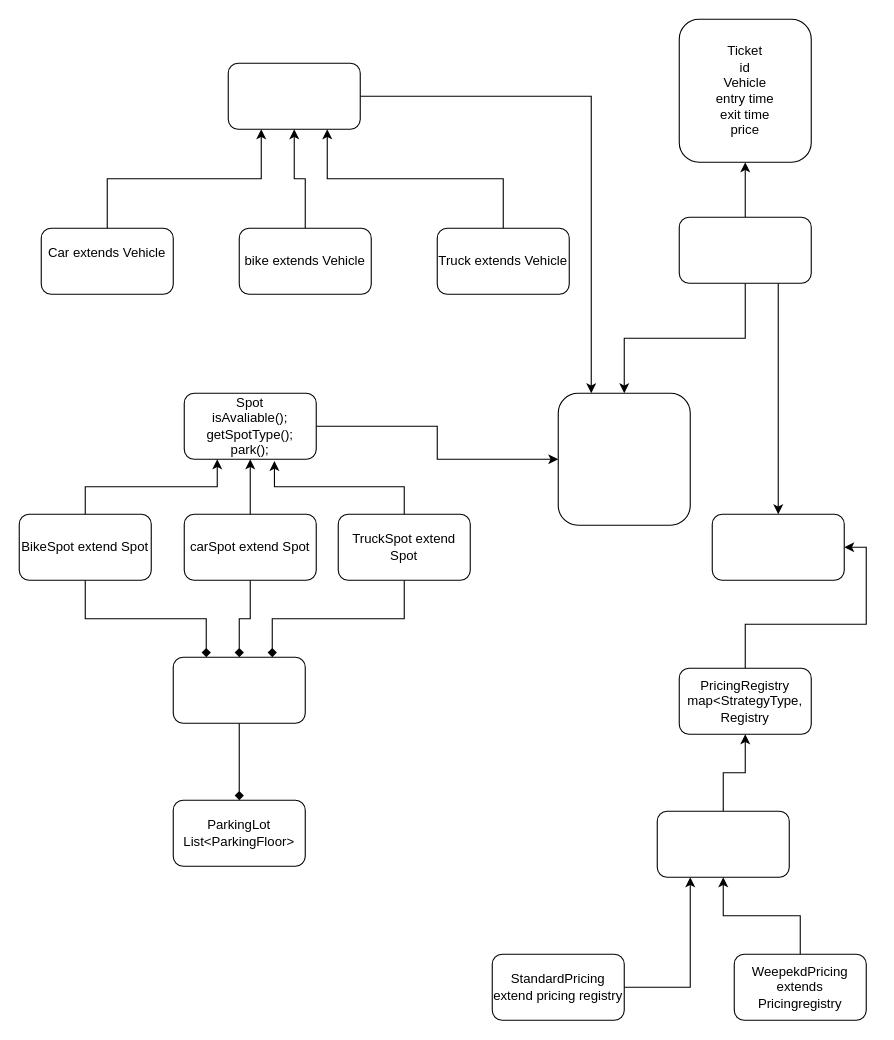
Some shapes in this 894 by 1040 pixel diagram are drawn without their labels. Here are the shapes that lost their labels. From the top down, the box of each, then its label:
(227, 62, 360, 129): Interface Vehicle getVehicleNo(); getVehicleType();
(678, 216, 811, 283): TicketService GenerateTicket
(557, 392, 690, 525): ParkingManager enterVehicle(); allocateSpot(); GenerateTicket(); VehicleExit();
(711, 513, 844, 580): Figureout which service to take
(172, 656, 305, 723): ParkingFloor Map<SPOTTYPE, spot>
(656, 810, 789, 877): Interface PricingStrategy GetStrategyType(); CalcullateFee();
